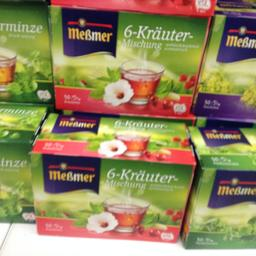tea: (28, 108, 196, 244), (47, 4, 210, 116), (183, 126, 255, 249)
